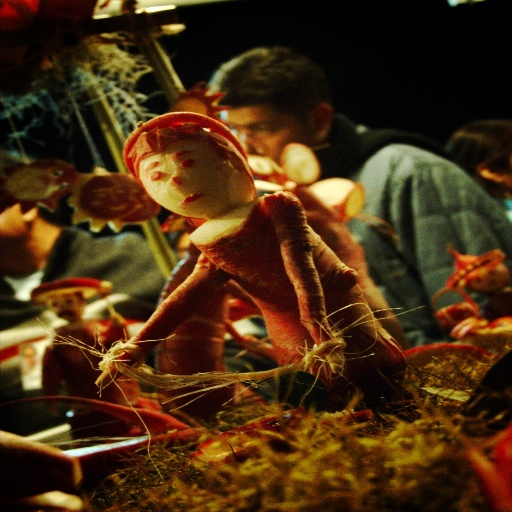hand: (94, 344, 139, 390), (301, 337, 348, 380)
